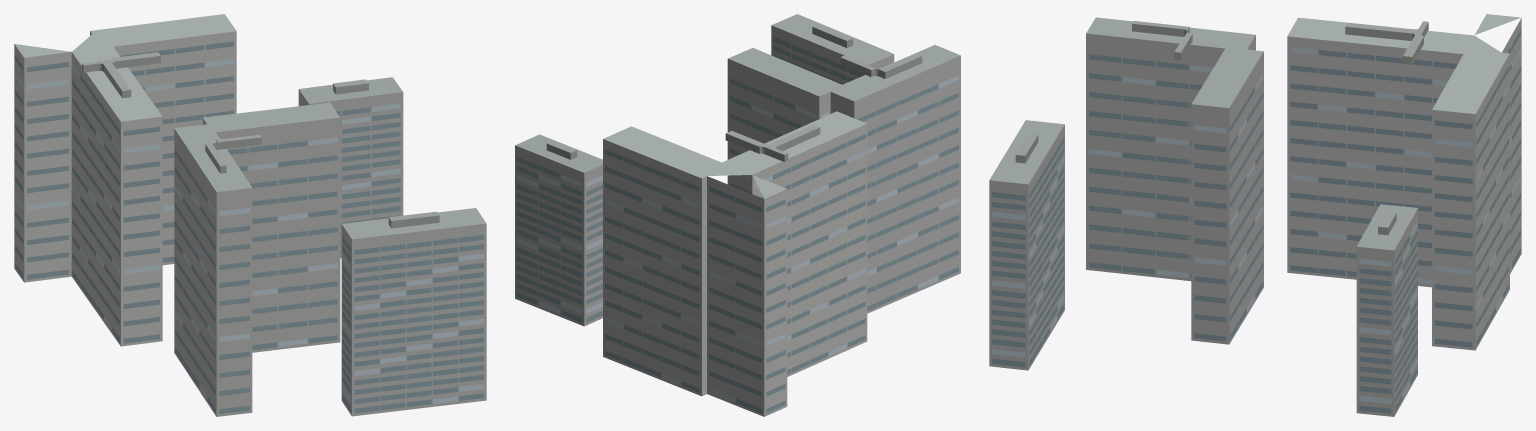
File: apt-a13985907.glb
3 renders of one model, left to right at view 1: azimuth 30°, elevation 25°; view 2: azimuth 150°, elevation 25°; view 3: azimuth 270°, elevation 25°, orthographic. The views are drawn at different scales.
Parts seen in each view (by area): view 1: apt-a13985907; view 2: apt-a13985907; view 3: apt-a13985907.
Boxes of the visible parts, x1,y1,x2,y2 form: apt-a13985907: (14, 14, 486, 416); apt-a13985907: (515, 14, 960, 416); apt-a13985907: (989, 14, 1521, 416).
Size of the model in its own units: 111 by 76 by 150.
